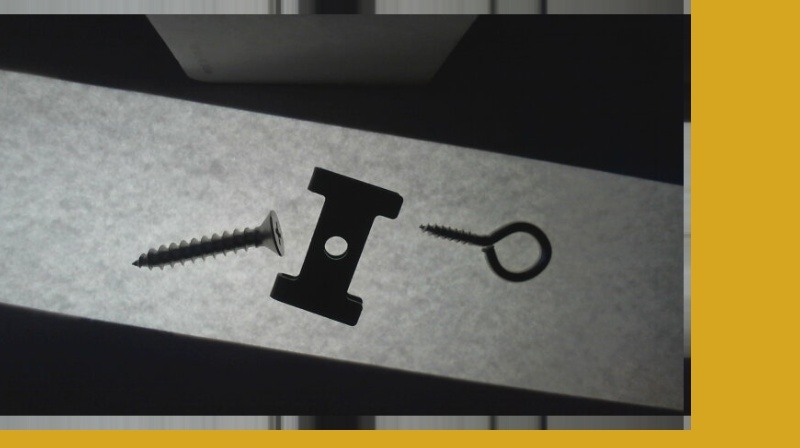O001: (416, 217, 553, 283)
O002: (265, 166, 403, 325)
S001: (131, 209, 288, 269)
